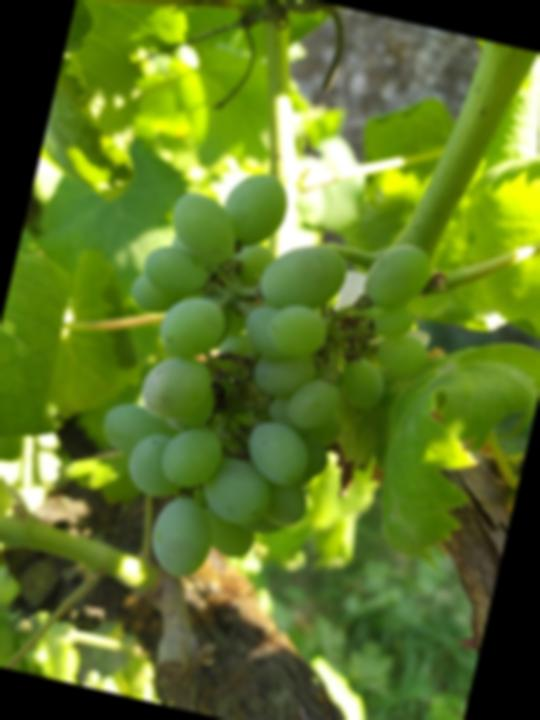grape: (62, 142, 467, 630)
